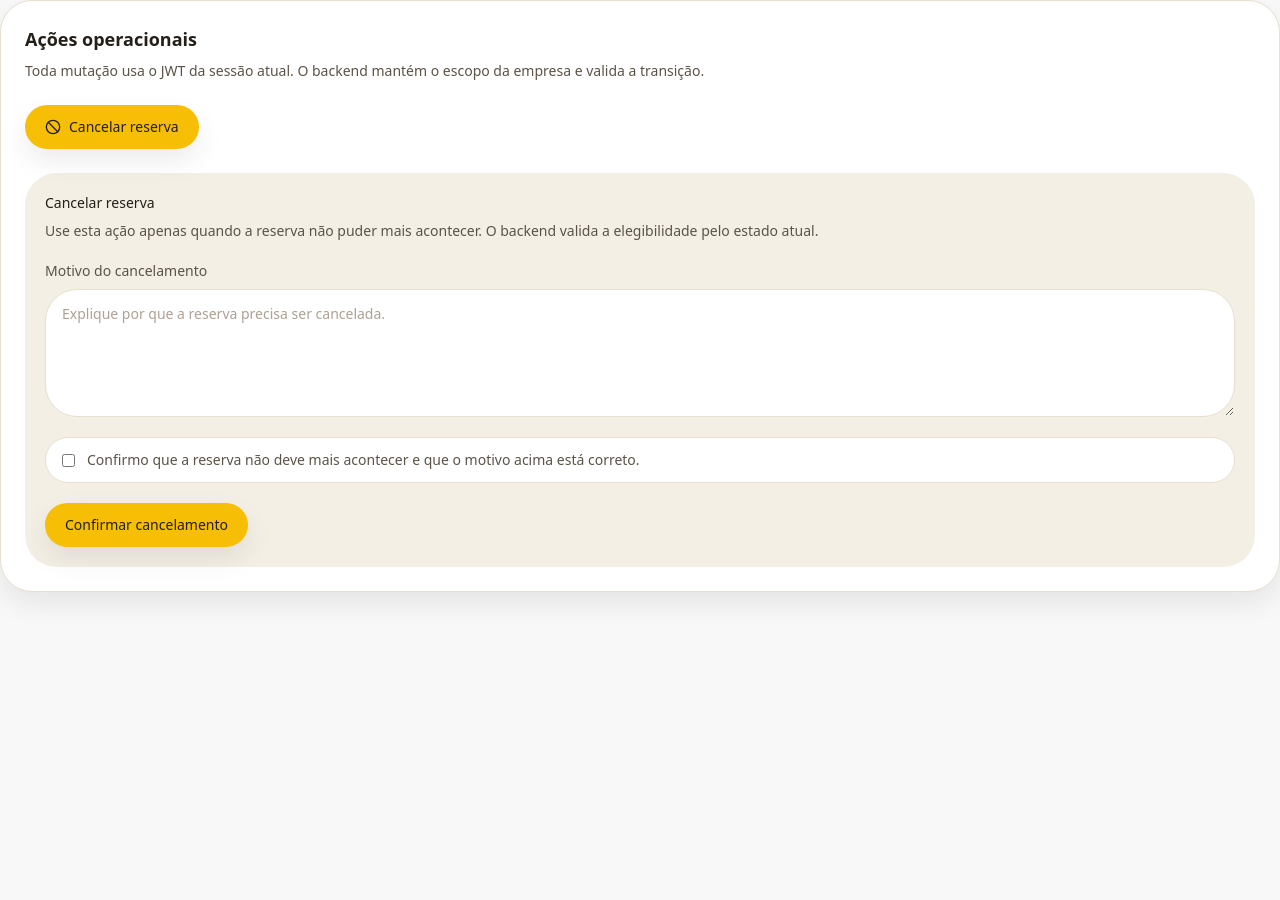
Test: BookingActionsPanel › shows server feedback during the cancellation flow
Type "Cliente desistiu." into the text box with placeholder "Explique por que a reserva precisa ser cancelada." at [640, 353], box [45,289,1235,417]
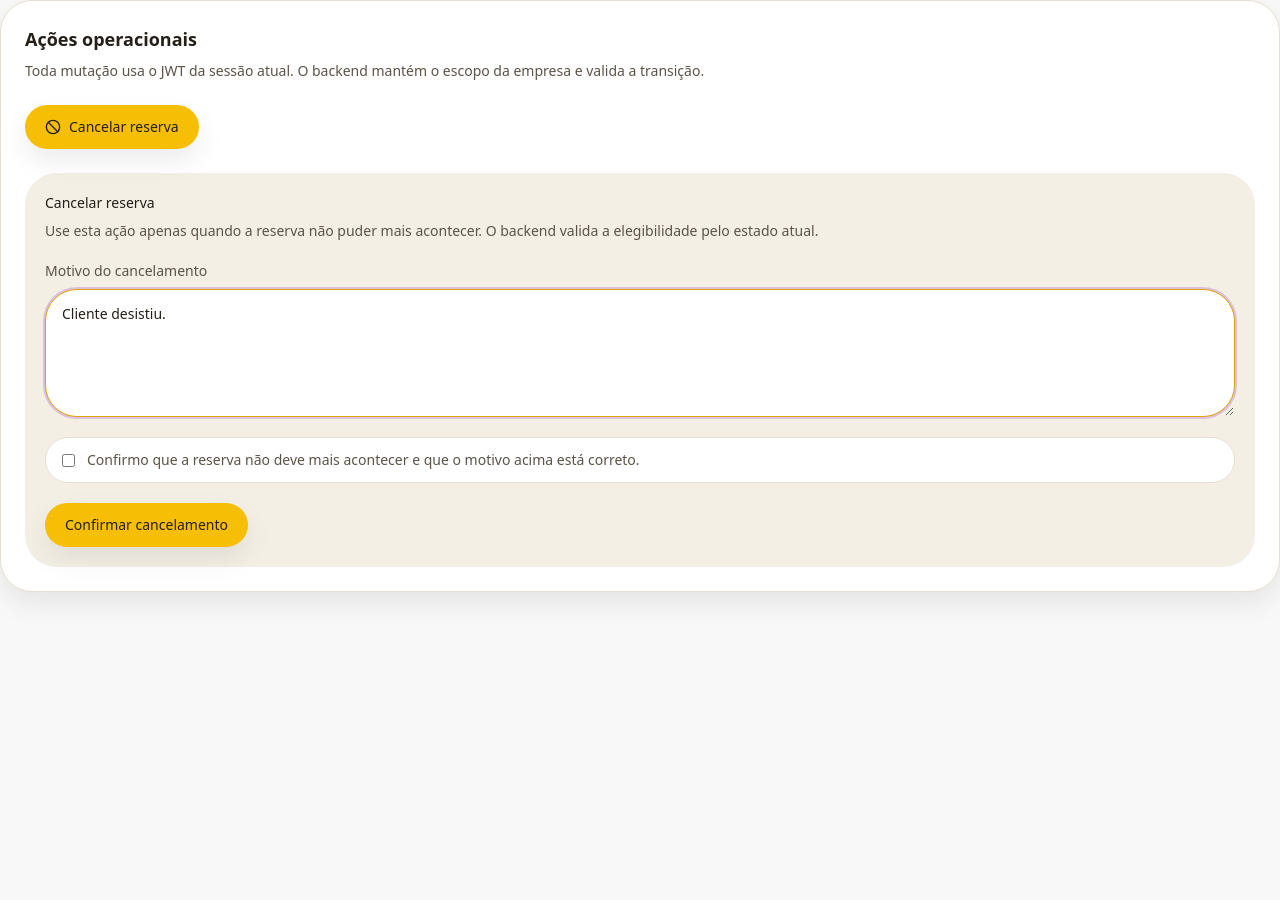
Click the checkbox at [68, 460], box [62,454,75,467]
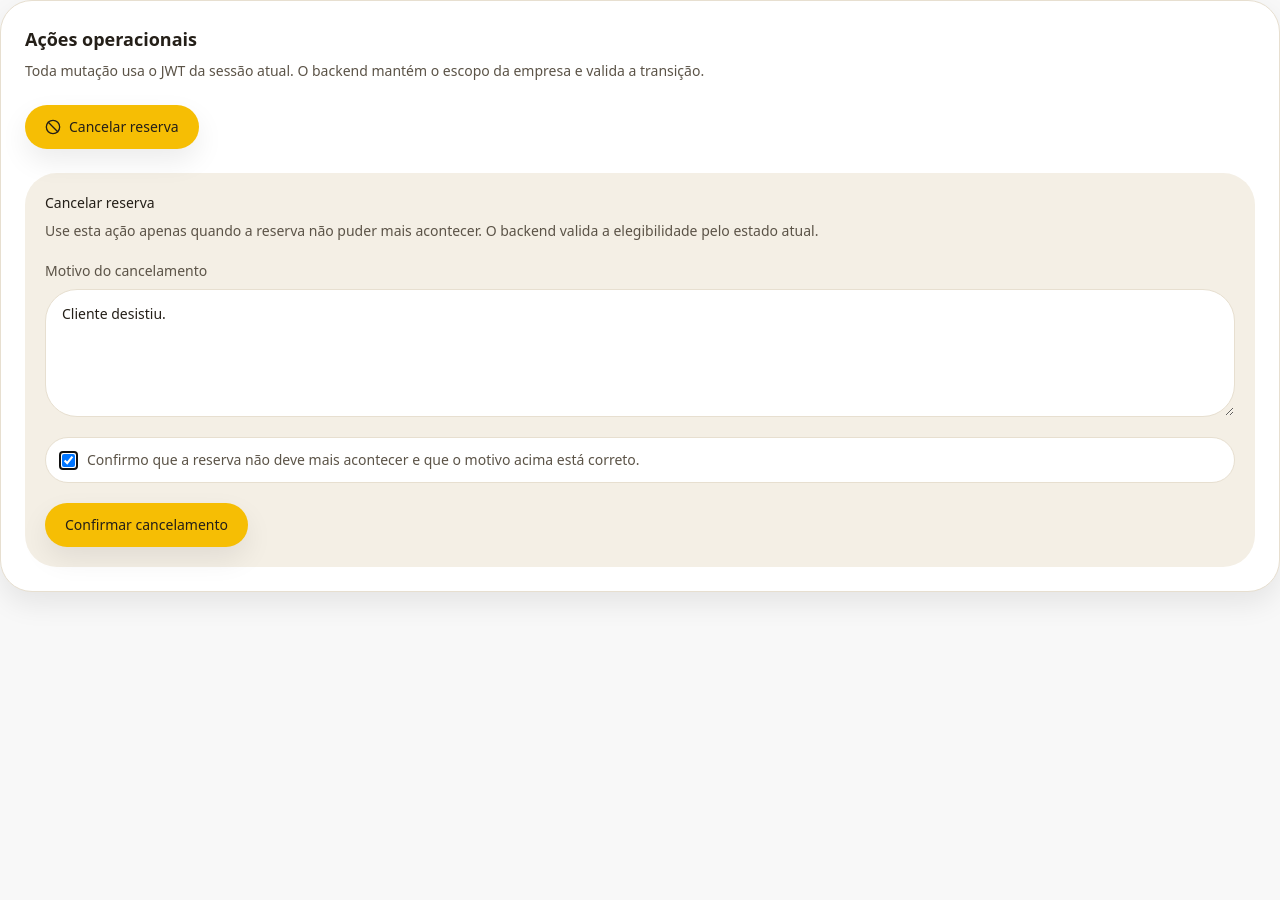
Click the button "Confirmar cancelamento" at [146, 525], box [45,503,248,547]
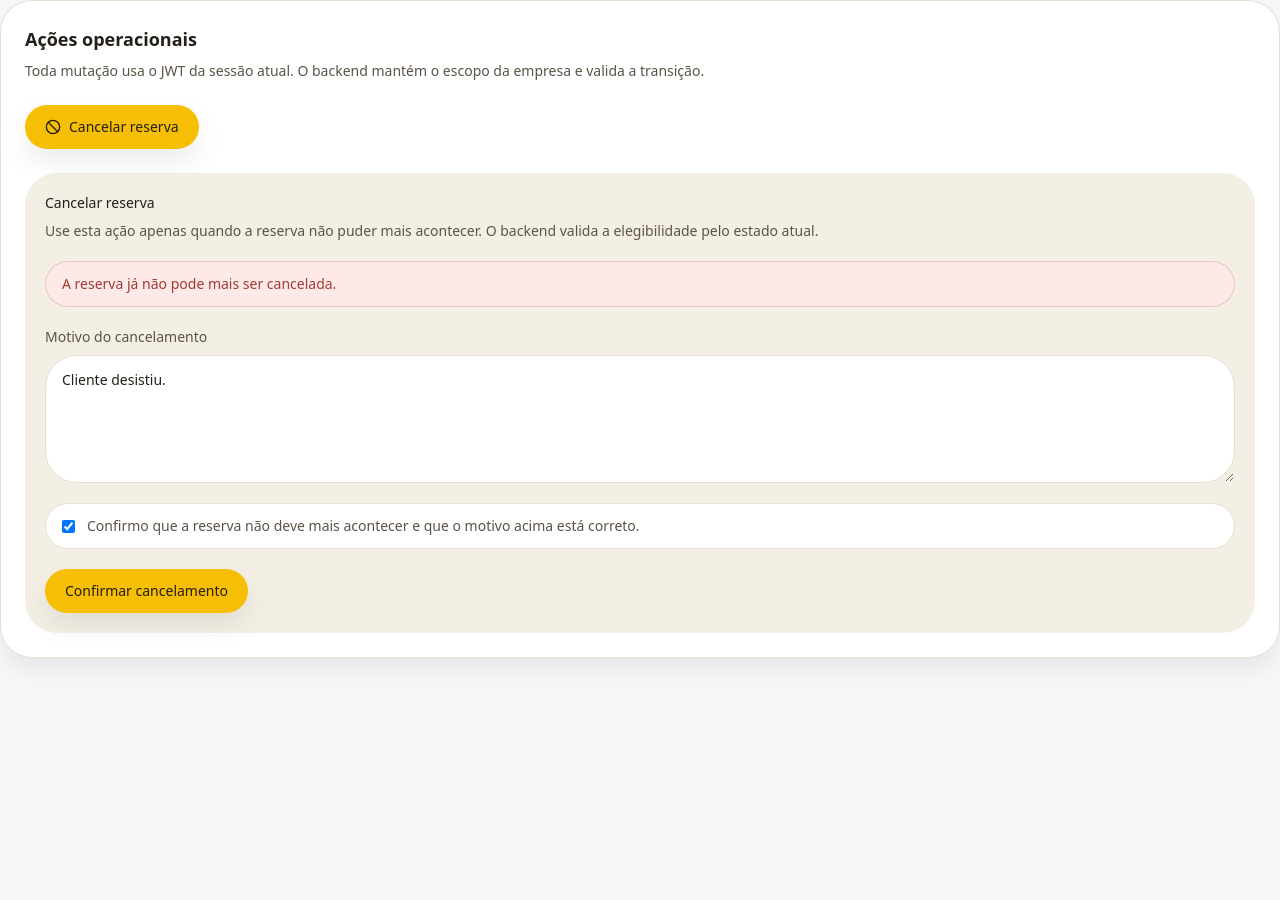
Expected: the text "A reserva já não pode mais ser cancelada." is shown, [45,261,1235,307]
